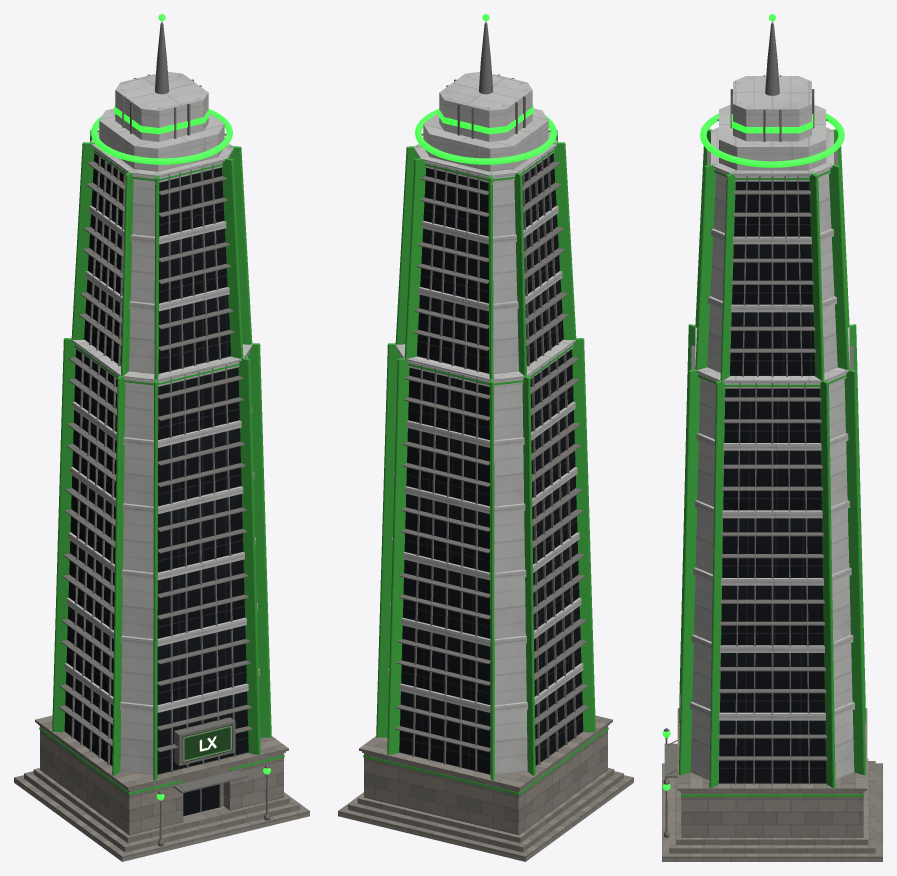
File: locator-x.glb
The picture shows the model from 3 angles, left to right: view 1: azimuth 30°, elevation 25°; view 2: azimuth 150°, elevation 25°; view 3: azimuth 270°, elevation 25°; orthographic projection. The views are drawn at different scales.
Parts seen in each view (by area): view 1: Landmark · Locator.X; view 2: Landmark · Locator.X; view 3: Landmark · Locator.X.
Boxes of the visible parts, box(x1,y1,x2,y2) form: Landmark · Locator.X: box(14, 14, 309, 861); Landmark · Locator.X: box(338, 14, 633, 861); Landmark · Locator.X: box(662, 14, 882, 861).
Bounding box in the file's own units: 12 × 48 × 12.
7 materials, 4 textured.
